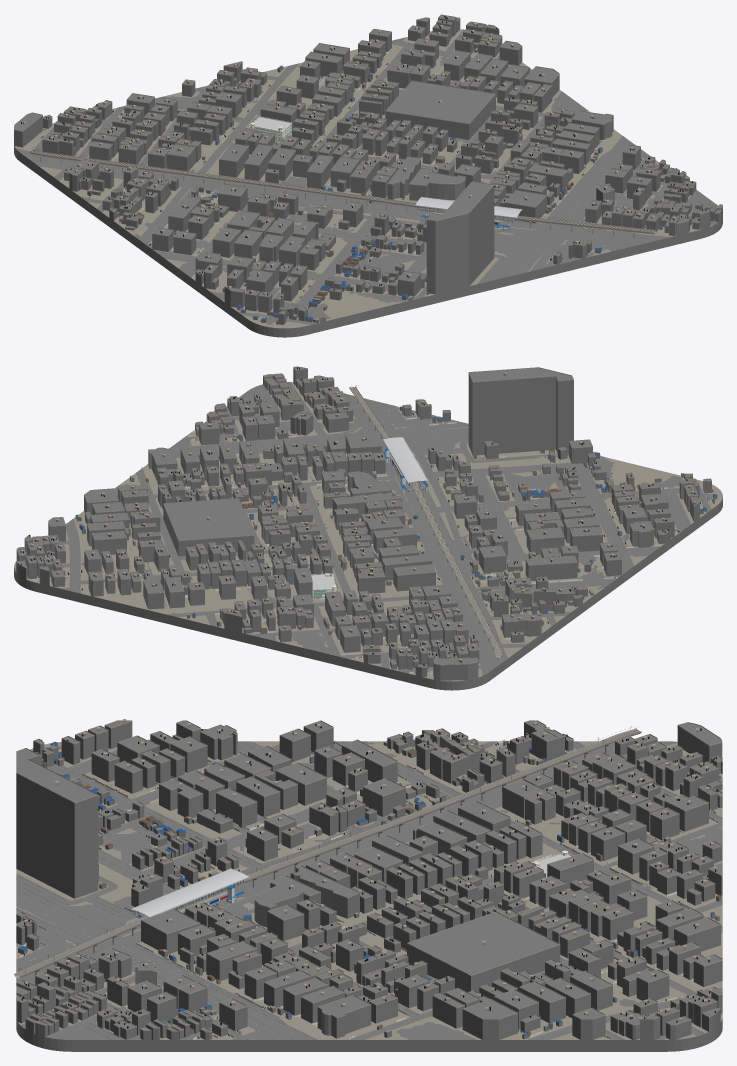
3 renders of one model, top to bottom at view 1: azimuth 30°, elevation 25°; view 2: azimuth 150°, elevation 25°; view 3: azimuth 270°, elevation 25°, orthographic. The views are drawn at different scales.
Parts seen in each view (by area): view 1: context, ground, plinth, rooftops, metro, compound_walls, stations, opt_d1_d1_hero; view 2: context, ground, plinth, rooftops, compound_walls, metro, stations, opt_d1_d1_hero; view 3: context, ground, plinth, rooftops, metro, compound_walls, stations.
Boxes of the visible parts, left/top/right/bottom form: context: left=14, top=14, right=722, bottom=324; ground: left=14, top=29, right=717, bottom=328; plinth: left=14, top=145, right=722, bottom=337; rooftops: left=21, top=15, right=706, bottom=297; metro: left=29, top=147, right=655, bottom=238; compound_walls: left=41, top=37, right=658, bottom=319; stations: left=415, top=197, right=522, bottom=230; opt_d1_d1_hero: left=250, top=116, right=293, bottom=140; context: left=16, top=366, right=717, bottom=680; ground: left=14, top=382, right=722, bottom=681; plinth: left=14, top=497, right=722, bottom=690; rooftops: left=20, top=367, right=696, bottom=666; compound_walls: left=32, top=406, right=708, bottom=678; metro: left=349, top=385, right=502, bottom=659; stations: left=382, top=437, right=428, bottom=493; opt_d1_d1_hero: left=311, top=573, right=339, bottom=599; context: left=16, top=720, right=722, bottom=1039; ground: left=16, top=741, right=722, bottom=1039; plinth: left=16, top=1018, right=722, bottom=1051; rooftops: left=21, top=719, right=718, bottom=1028; metro: left=14, top=726, right=641, bottom=978; compound_walls: left=19, top=739, right=722, bottom=1039; stations: left=131, top=868, right=249, bottom=918.
Size of the model in its own units: 763 by 130 by 763.
